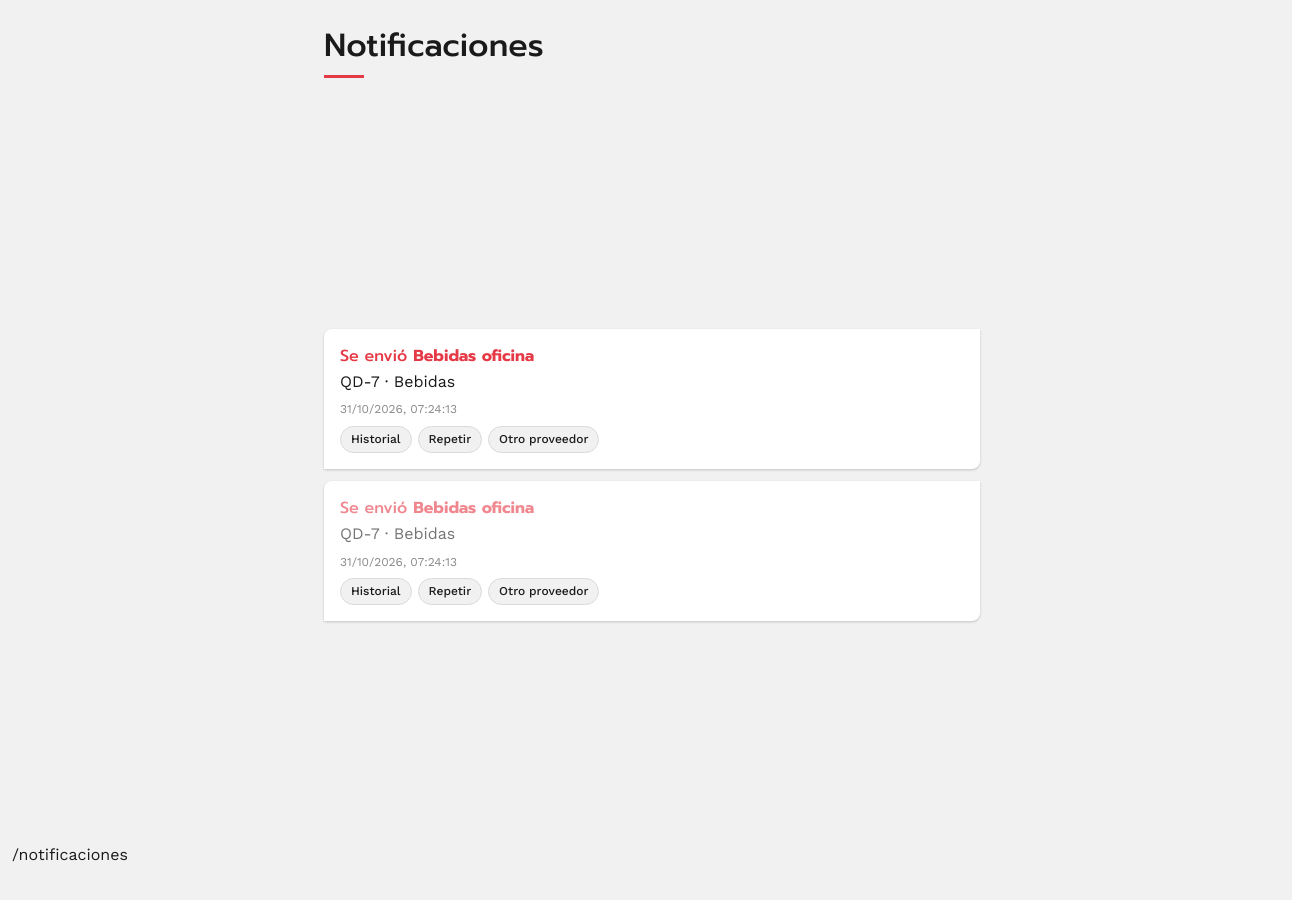
Test case: ListaNotificaciones › Historial lleva al pedido
Click the button with aria-label "ver en historial" at (376, 440), box [340, 426, 412, 453]
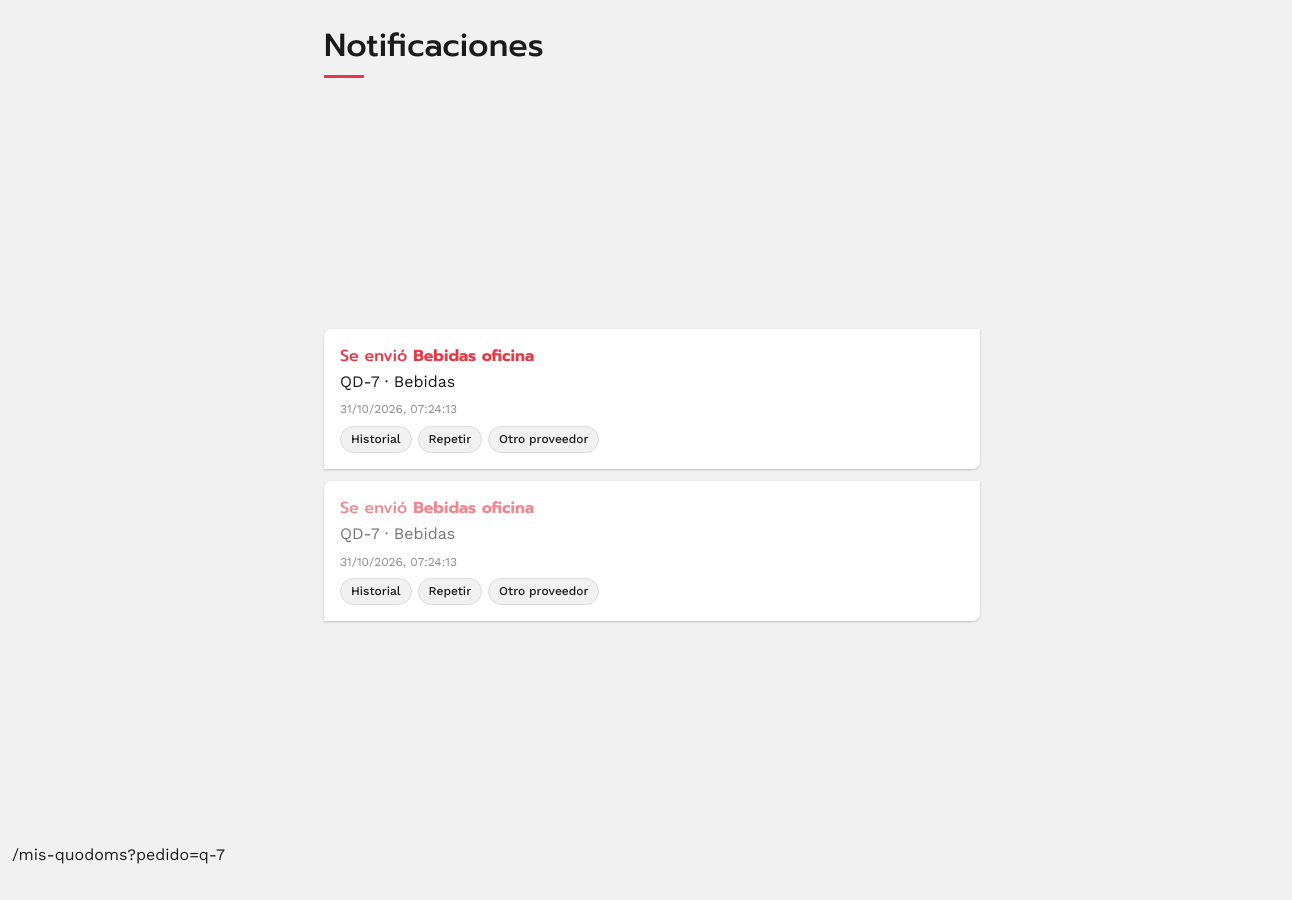
Expected: the text with test id "ubicacion" reads "/mis-quodoms?pedido=q-7", [12, 845, 225, 864]
